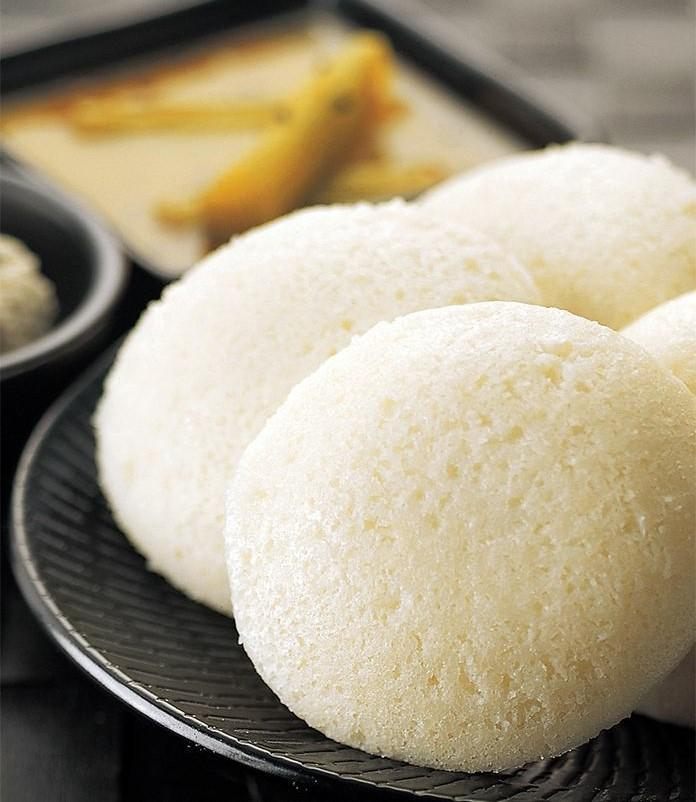Idli: (218, 304, 693, 771), (97, 202, 542, 616), (413, 145, 696, 331), (578, 290, 696, 734)
